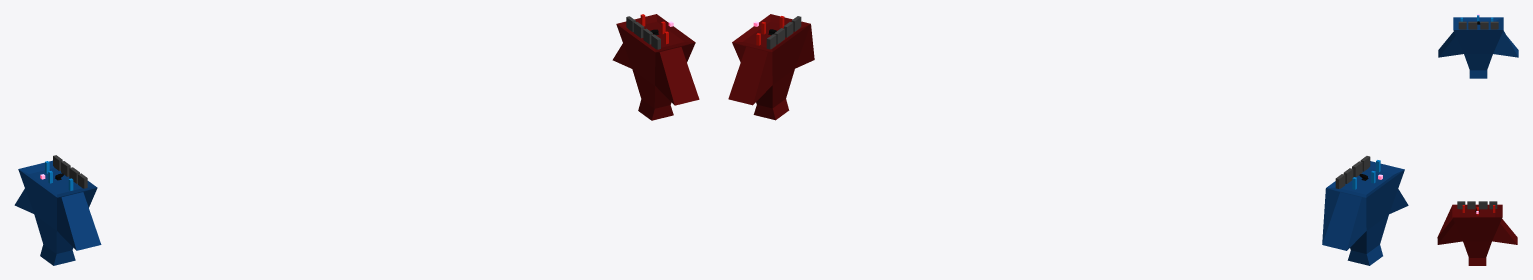
Rendered from Maqueta de juego.fbx.
3 views of the same model, side by side, from view 1: azimuth 30°, elevation 25°; view 2: azimuth 150°, elevation 25°; view 3: azimuth 270°, elevation 25° (orthographic). The views are drawn at different scales.
Visible parts, largest first — view 1: Cube.005, Cube.010, Cube.008, Cube.007; view 2: Cube.005, Cube.010, Cube.008, Cube.007; view 3: Cube.010, Cube.005, Cube.007, Cube.008.
Part boxes in pixels (x1,y1,x2,y2): Cube.005: (14,160,101,265); Cube.010: (612,14,699,120); Cube.008: (626,16,660,49); Cube.007: (53,155,87,188); Cube.005: (1322,161,1408,265); Cube.010: (728,14,814,120); Cube.008: (766,16,801,49); Cube.007: (1335,156,1370,188); Cube.010: (1437,204,1517,265); Cube.005: (1438,17,1518,78); Cube.007: (1458,21,1498,29); Cube.008: (1457,201,1497,209).
Size of the model in its own units: 10713 by 1422 by 1833.
